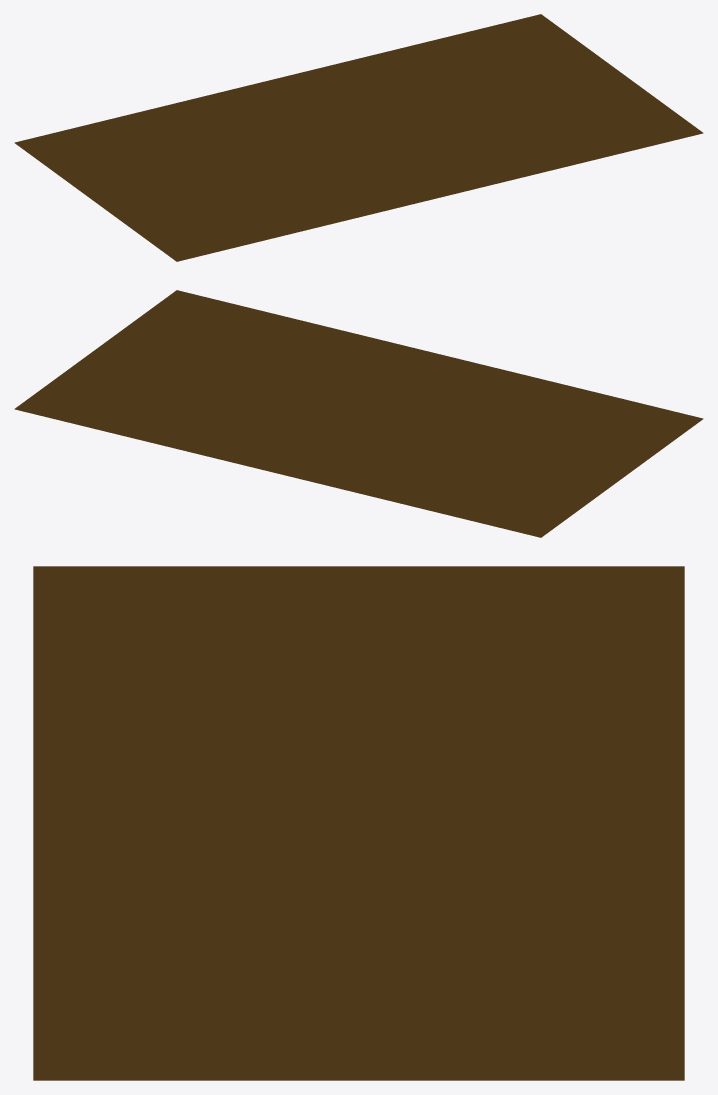
The model's file is rug-6.fbx.
3 views of the same model, one above another, from view 1: azimuth 30°, elevation 25°; view 2: azimuth 150°, elevation 25°; view 3: azimuth 270°, elevation 25° (orthographic). The views are drawn at different scales.
Visible parts, largest first — view 1: rug-6; view 2: rug-6; view 3: rug-6.
Boxes of the visible parts, left/top/right/bottom form: rug-6: left=14, top=14, right=703, bottom=261; rug-6: left=14, top=290, right=703, bottom=537; rug-6: left=33, top=566, right=684, bottom=1080.
Size of the model in its own units: 234 by 0 by 125.
